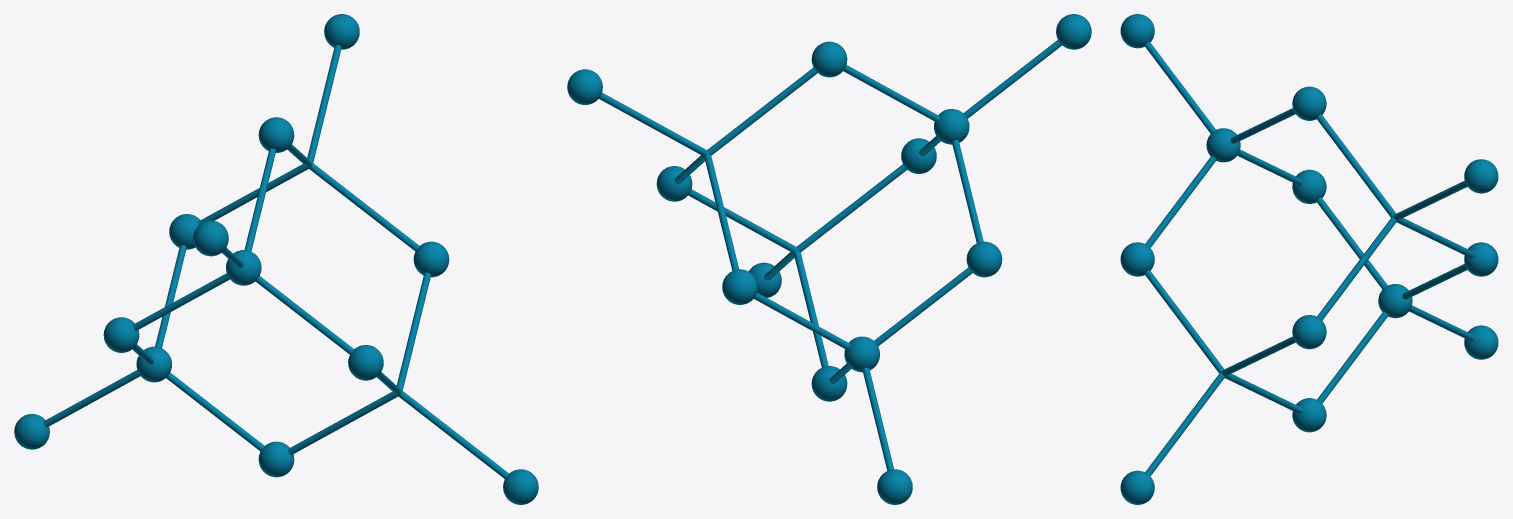
File: diamond3.glb
The picture shows the model from 3 angles, left to right: view 1: azimuth 30°, elevation 25°; view 2: azimuth 150°, elevation 25°; view 3: azimuth 270°, elevation 25°; orthographic projection. The views are drawn at different scales.
Visible parts, largest first — view 1: carbonAtoms, Object; view 2: Object, carbonAtoms; view 3: Object, carbonAtoms.
Boxes of the visible parts, x1,y1,x2,y2 form: carbonAtoms: (14,14,538,504); Object: (43,45,508,478); Object: (599,40,1061,470); carbonAtoms: (567,14,1091,504); Object: (1144,41,1474,475); carbonAtoms: (1120,14,1498,504).
Bounding box in the file's own units: 2.2 × 2.2 × 2.2.
